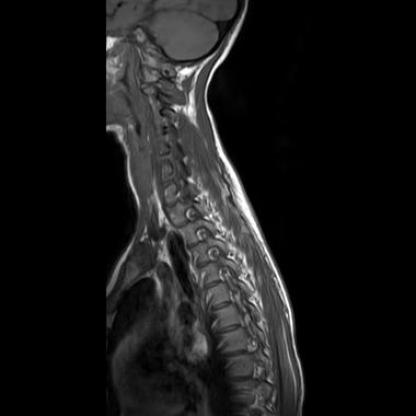Disc Bulgerotation: (156, 130, 169, 143)
